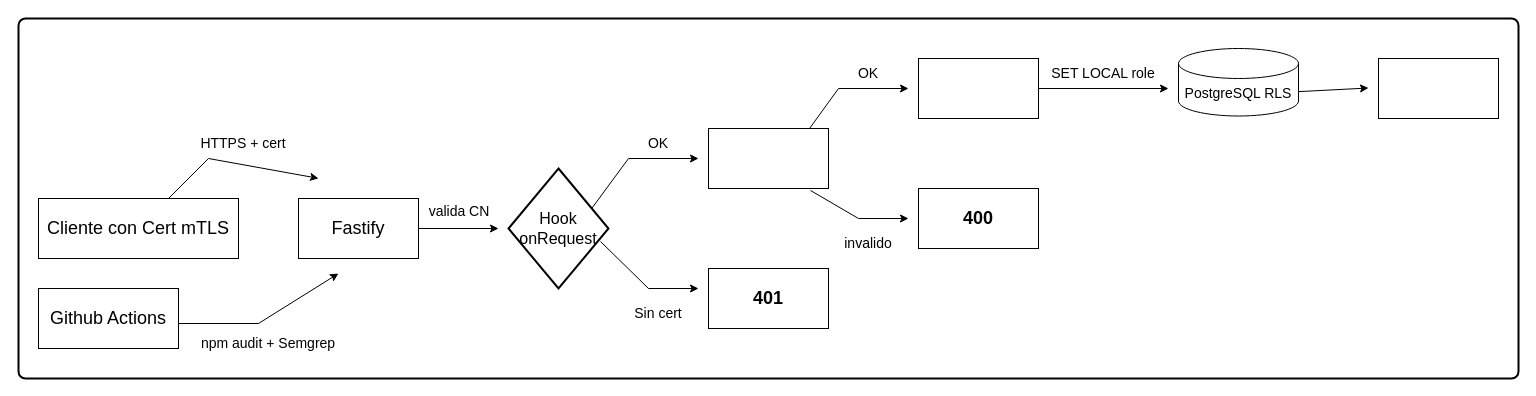
Some shapes in this 1536 by 396 pixel diagram are drawn without their labels. The shapes that lost their labels are listed below. From the top down, each one's box as (x1, y1, x2, y2) in pixels, then its label:
(918, 58, 1038, 118): Handler
(1378, 58, 1498, 118): Response
(708, 128, 828, 188): Valida Zod
